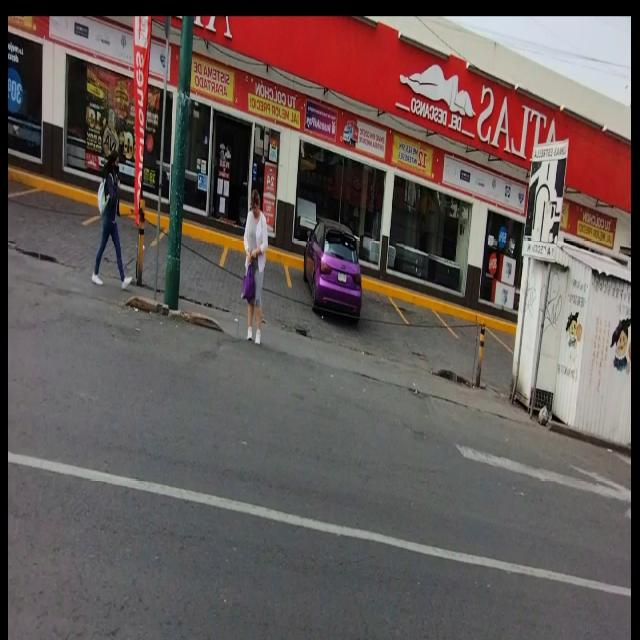adult: (92, 151, 131, 287), (242, 189, 268, 346)
